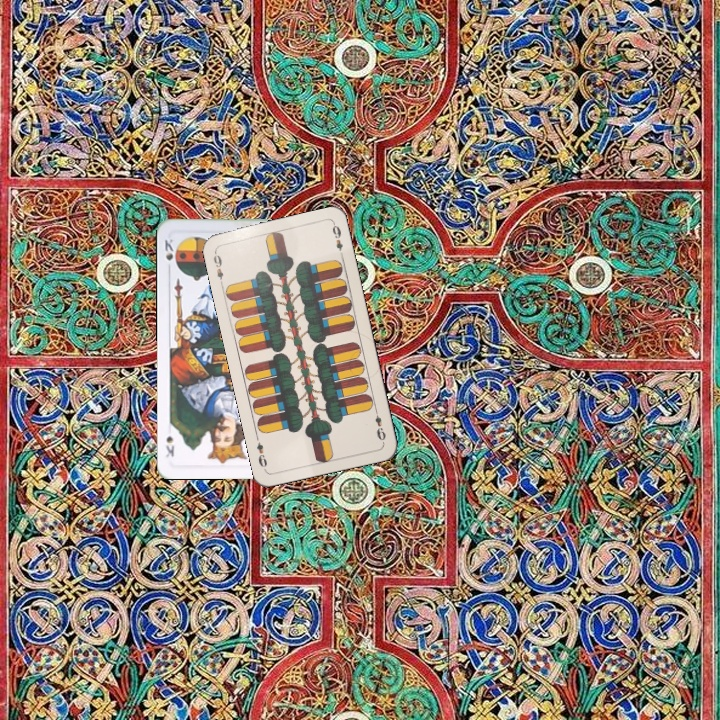E9: (209, 247, 226, 288), (371, 404, 388, 443)
SK: (161, 235, 177, 263)
